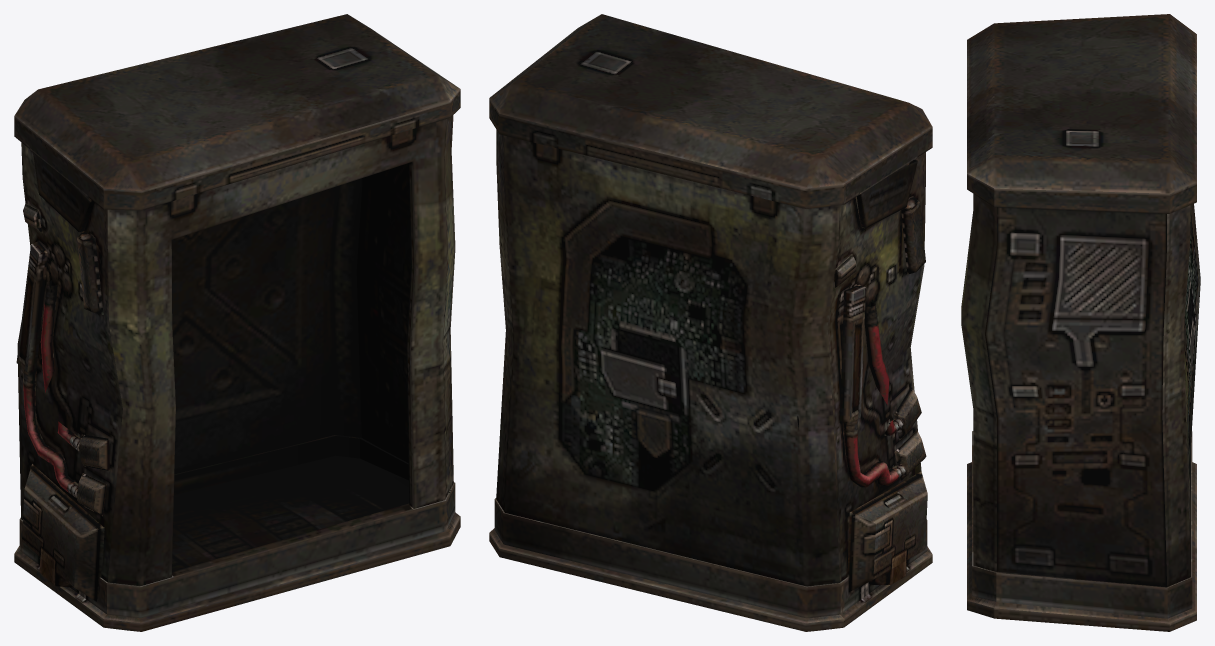
File: computer_case_broken.DAE
3 views of the same model, side by side, from view 1: azimuth 30°, elevation 25°; view 2: azimuth 150°, elevation 25°; view 3: azimuth 270°, elevation 25° (orthographic).
Parts seen in each view (by area): view 1: computer_case_broken; view 2: computer_case_broken; view 3: computer_case_broken.
Part boxes in pixels (x1,y1,x2,y2): computer_case_broken: (14, 14, 460, 631); computer_case_broken: (489, 14, 932, 631); computer_case_broken: (961, 14, 1200, 631).
Size of the model in its own units: 0.7402 by 0.4252 by 0.9222.
